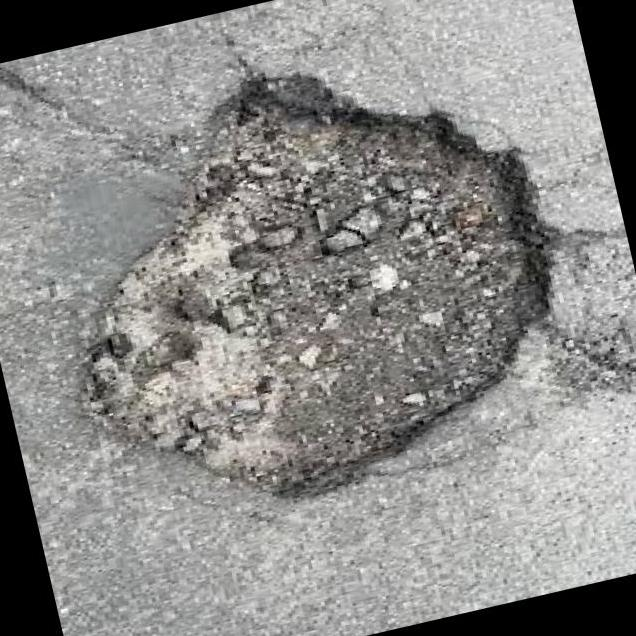pothole: (16, 19, 610, 546)
